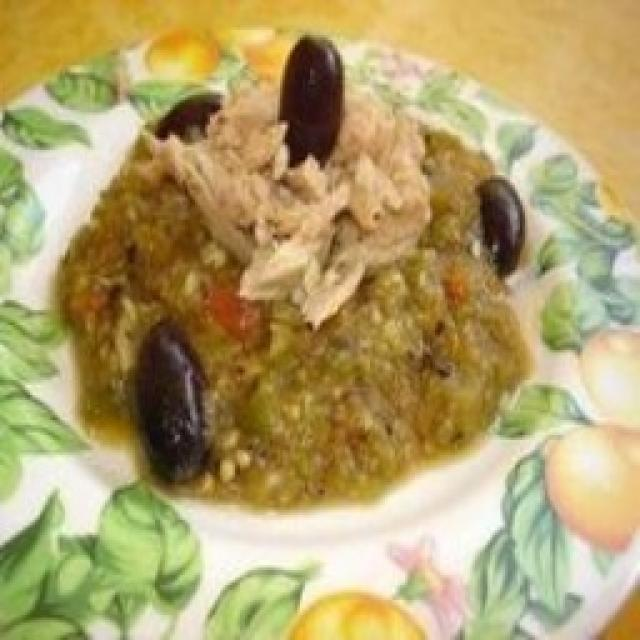Salade mechweya: (0, 22, 640, 552)
